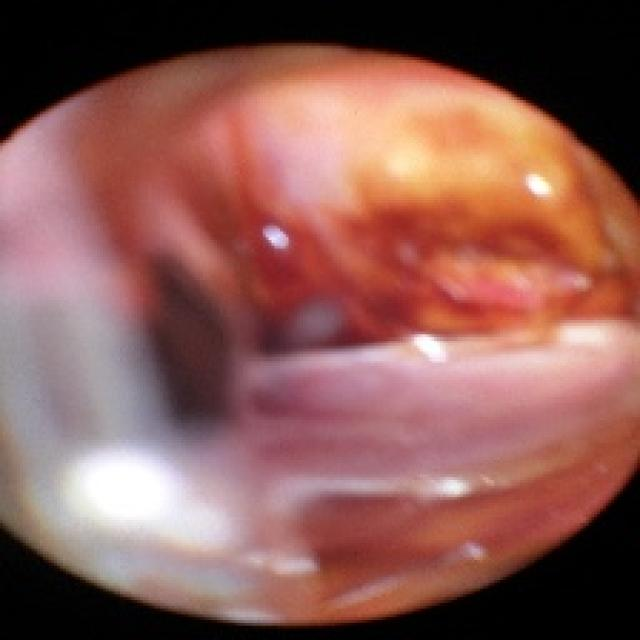type-3: (30, 80, 632, 557)
